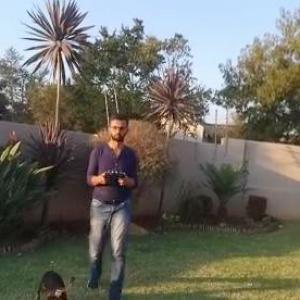follow: (80, 106, 142, 299)
null: (32, 267, 80, 299)
